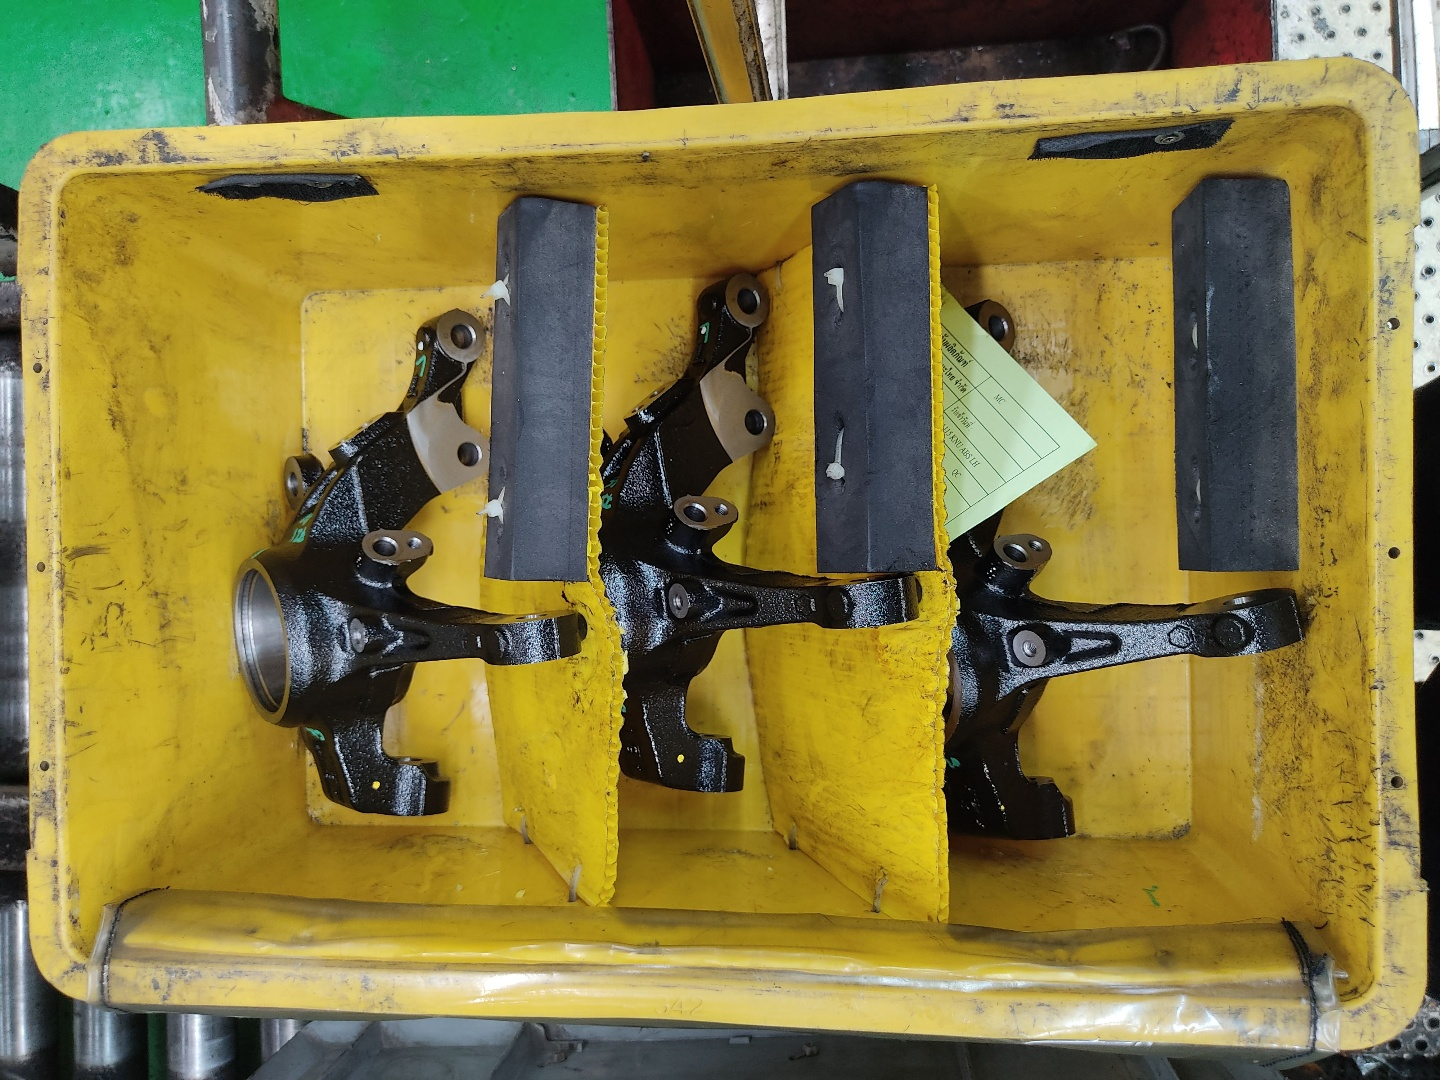abs-lh: (933, 275, 1314, 855), (225, 298, 592, 825), (594, 259, 929, 818)
